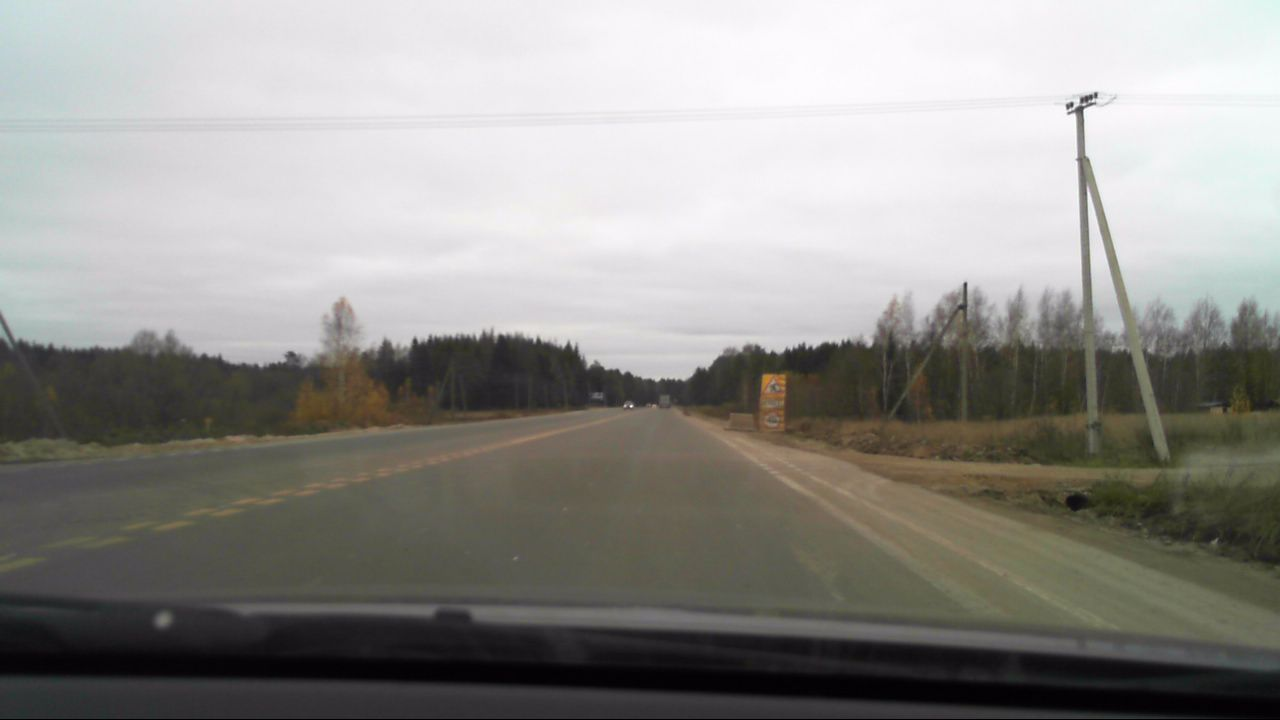speed_warning_40: (762, 411, 783, 430)
